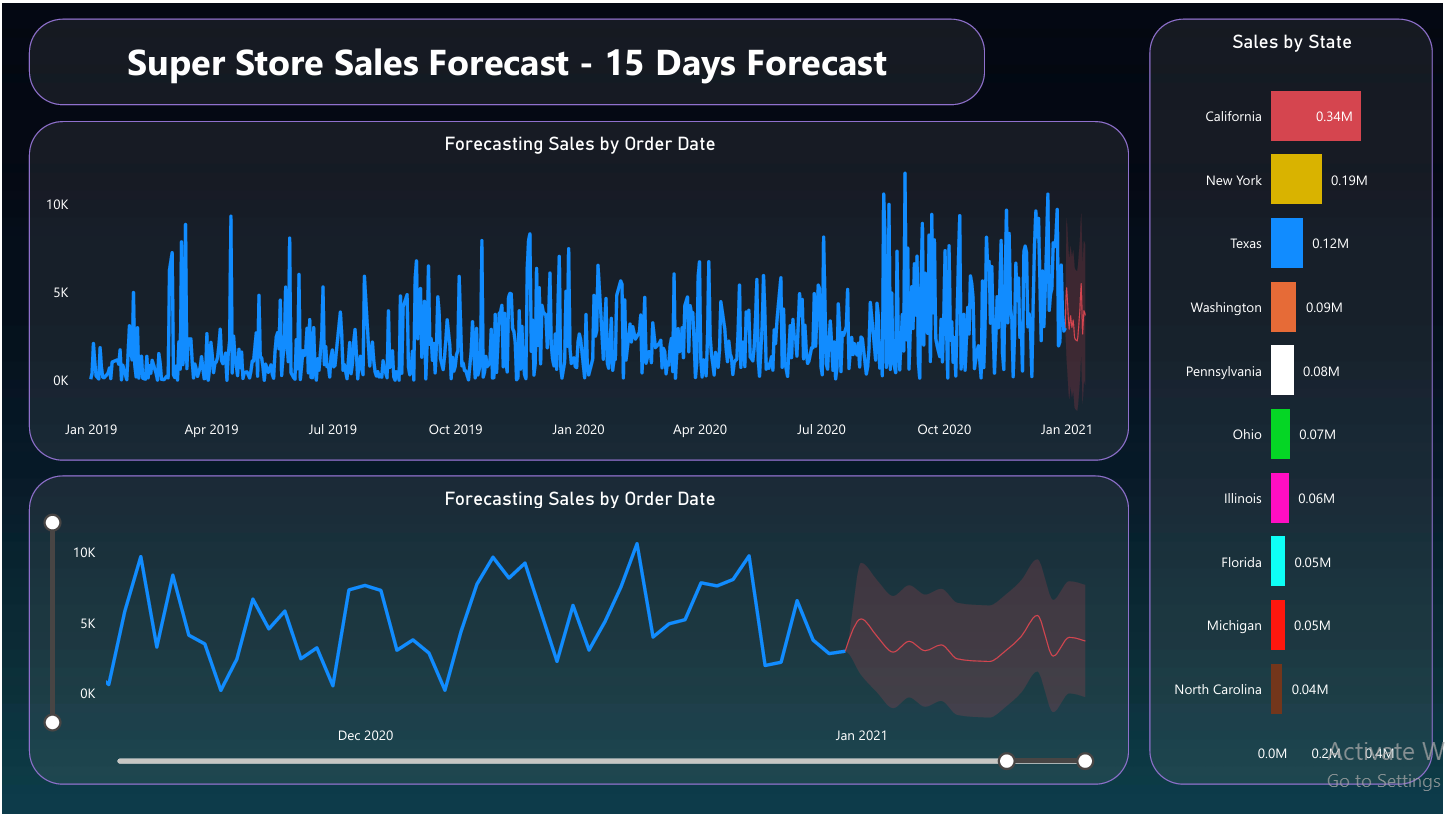

What the dashboard file says about the page in this screenshot:
{"tool":"powerbi","page":{"name":"Page 2","canvas":[1280,720],"ordinal":1},"visuals":[{"type":"lineChart","title":"Forecasting Sales by Order Date","fields":{"Y":["Sum(SuperStore_Sales_Dataset.Sales)"],"Category":["SuperStore_Sales_Dataset.Order Date"]},"box":[23,104.1,978.1,301.4],"z":0},{"type":"lineChart","title":"Forecasting Sales by Order Date","fields":{"Y":["Sum(SuperStore_Sales_Dataset.Sales)"],"Category":["SuperStore_Sales_Dataset.Order Date"]},"box":[23,418.8,978.1,274.8],"z":1000},{"type":"barChart","title":"Sales by State","fields":{"Category":["SuperStore_Sales_Dataset.State"],"Y":["Sum(SuperStore_Sales_Dataset.Sales)"]},"box":[1019.2,13.3,251.8,680.3],"z":1001},{"type":"textbox","box":[23,13.3,849.8,76.3],"z":1002}]}

Visuals, with their boxes in screenshot pixels (x1, y1, x2, y2), scaled from the page's 1280x720 canvas onto the 1445x815 screenshot:
"Forecasting Sales by Order Date" lineChart: [26,118,1130,459]
"Forecasting Sales by Order Date" lineChart: [26,474,1130,785]
"Sales by State" barChart: [1151,15,1435,785]
textbox: [26,15,985,101]
